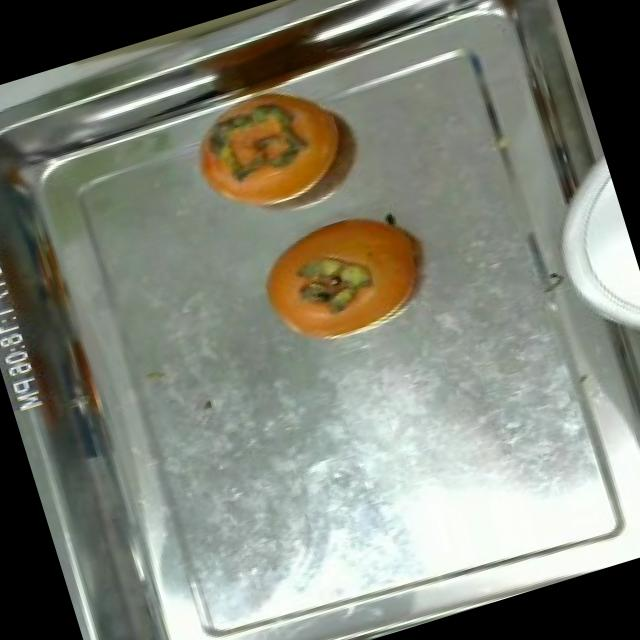Fruit: (238, 188, 446, 361), (174, 73, 374, 233)
